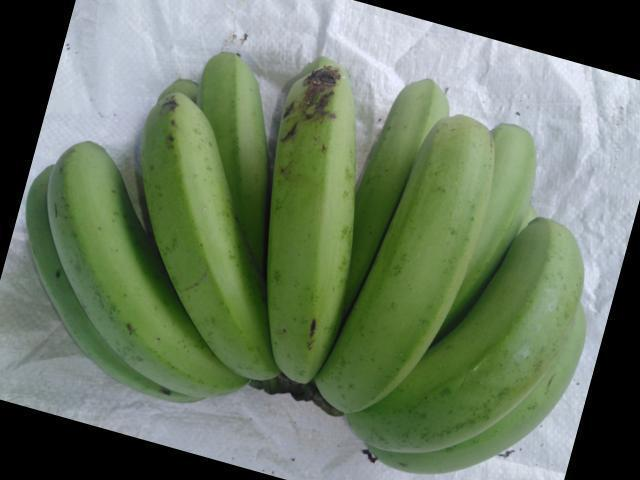unripe: (339, 107, 486, 427), (401, 206, 582, 458), (125, 88, 265, 392), (257, 51, 367, 384), (39, 142, 178, 391)
